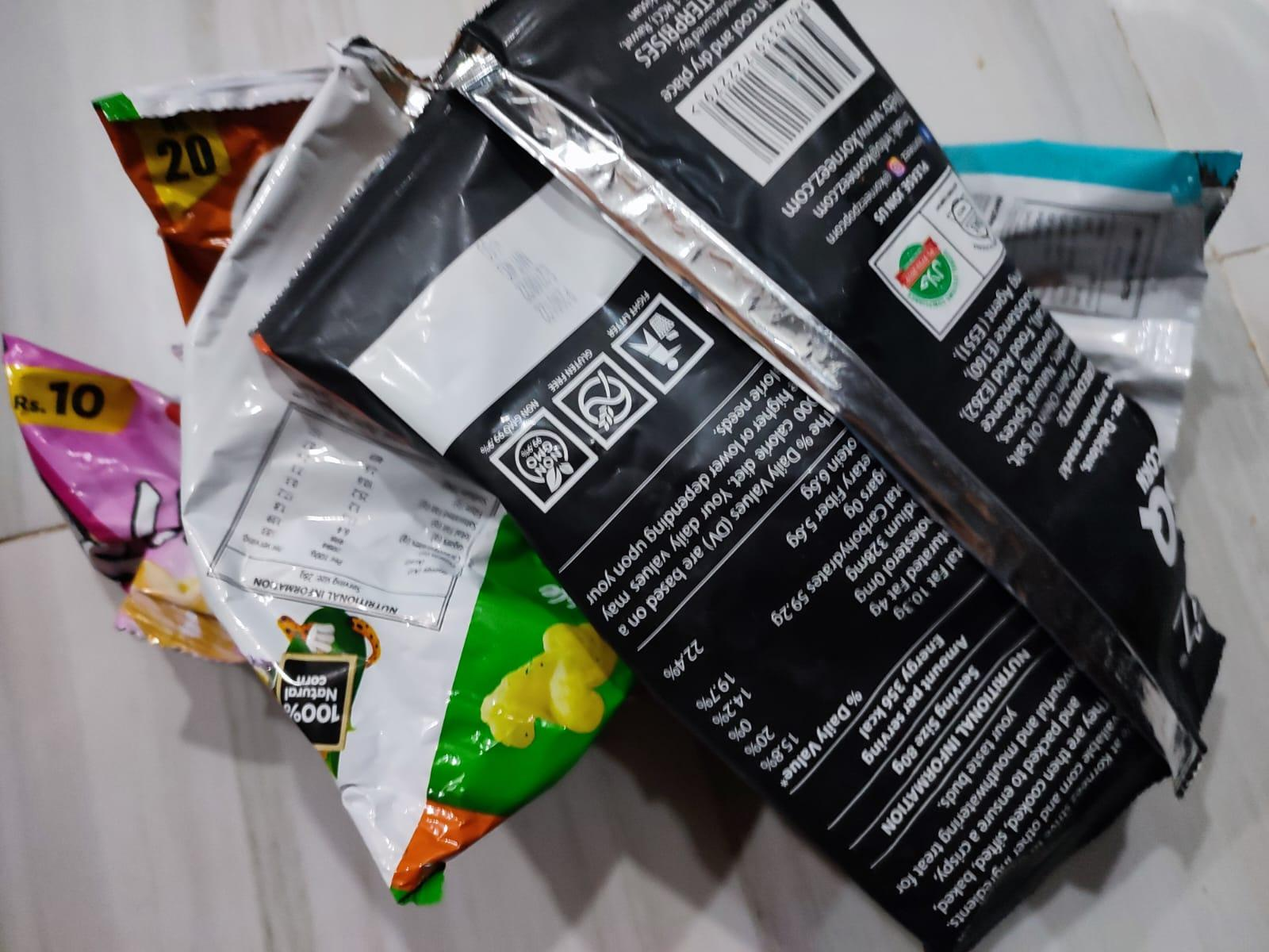garbage: (26, 0, 1269, 915)
